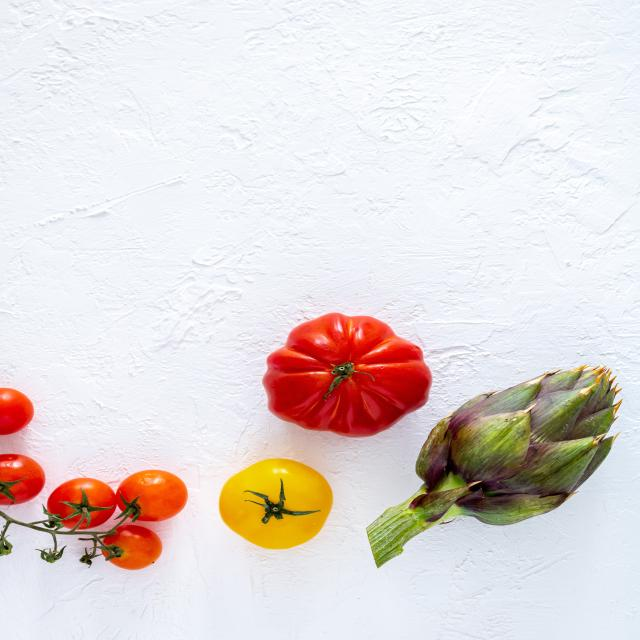Tomato: (252, 306, 446, 439), (98, 458, 191, 528), (36, 474, 117, 533)
